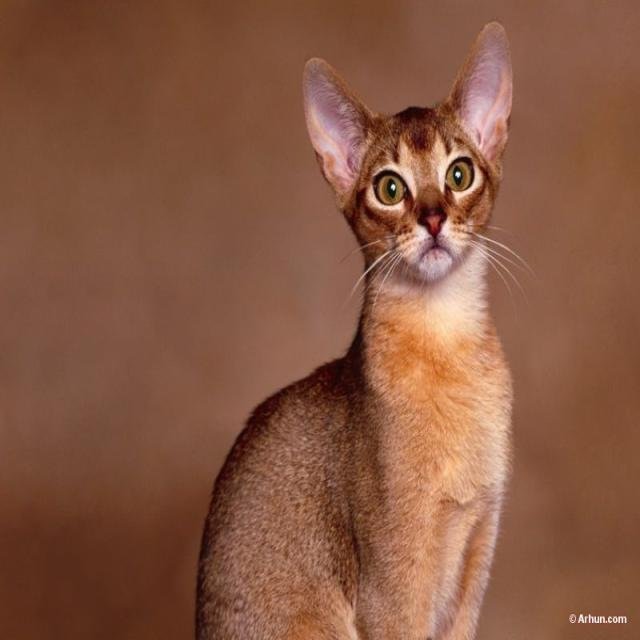Abyssinian: (302, 18, 520, 296)
